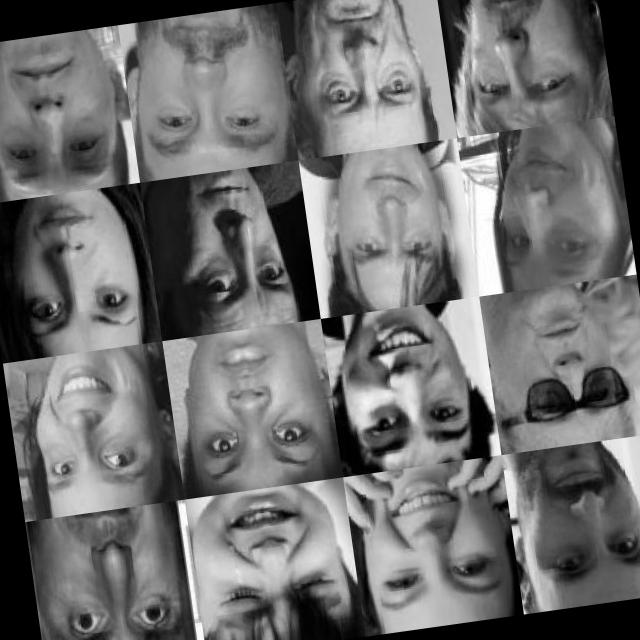happy: (368, 466, 508, 618), (137, 13, 280, 157), (329, 152, 459, 290), (30, 354, 155, 487), (361, 311, 480, 450), (528, 451, 640, 598), (502, 134, 612, 275)
neutral: (175, 338, 324, 486), (304, 0, 440, 141), (10, 214, 144, 357), (0, 36, 124, 190), (176, 175, 294, 322), (498, 305, 624, 441), (45, 518, 172, 640), (461, 0, 582, 113)
sad: (201, 496, 337, 640)
